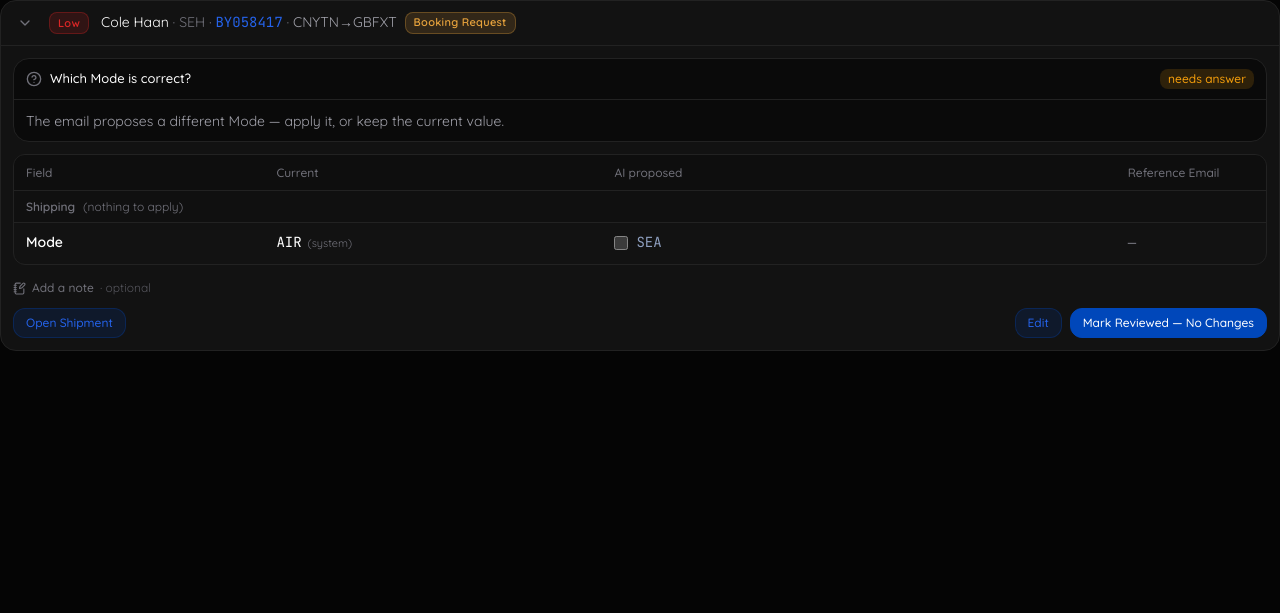
it: conflict table — read-only by default, Edit to change values › taking a Mode carries its consequence into the same apply › lists what the switch strands, ticked to clear
Click the checkbox with test id "conflict-take" at (621, 243), box 614,236 -> 628,250
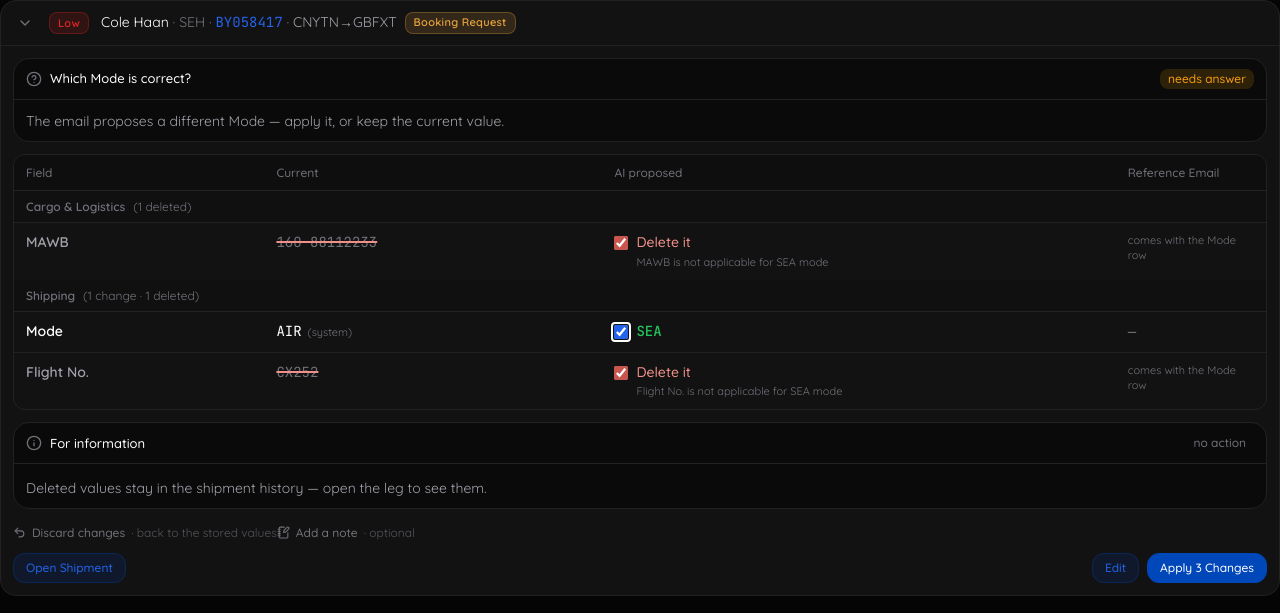
Expected: the checkbox with test id "mode-carry-over-flightNo" is checked, 614,366 -> 628,380
Expected: the checkbox with test id "mode-carry-over-mawb" is checked, 614,236 -> 628,250
Expected: the row with test id "mode-clear-row-mawb" shows "160-88112233", 276,233 -> 377,251
